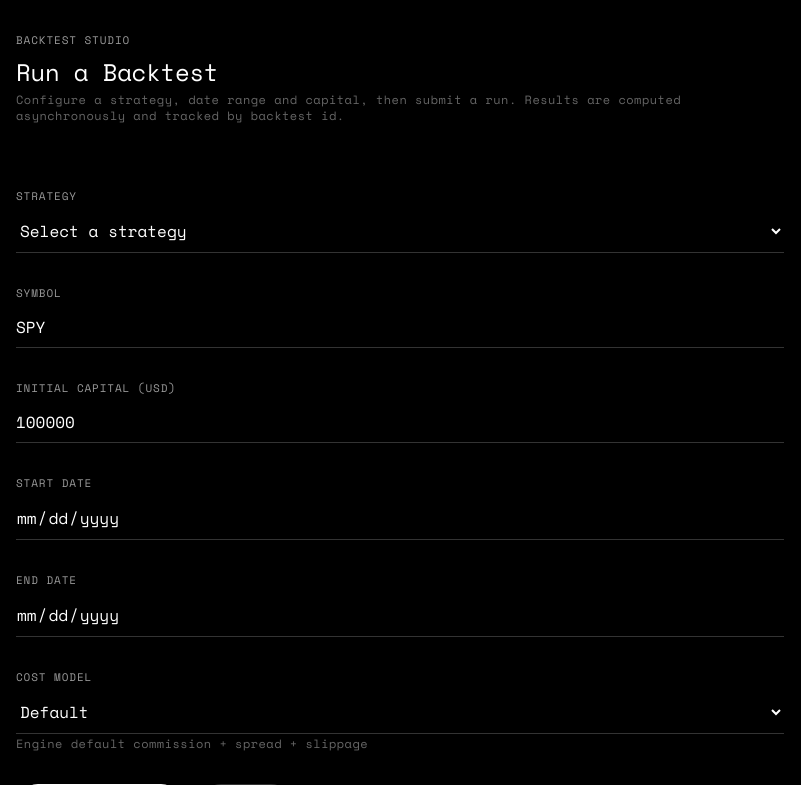
Test: BacktestPage › shows a submission error state when the mutation fails
This screenshot has width=801, height=785.
Select "Momentum Alpha" in the dropdown with test id "backtest-strategy-select" at (400, 232), box [16,210,784,253]
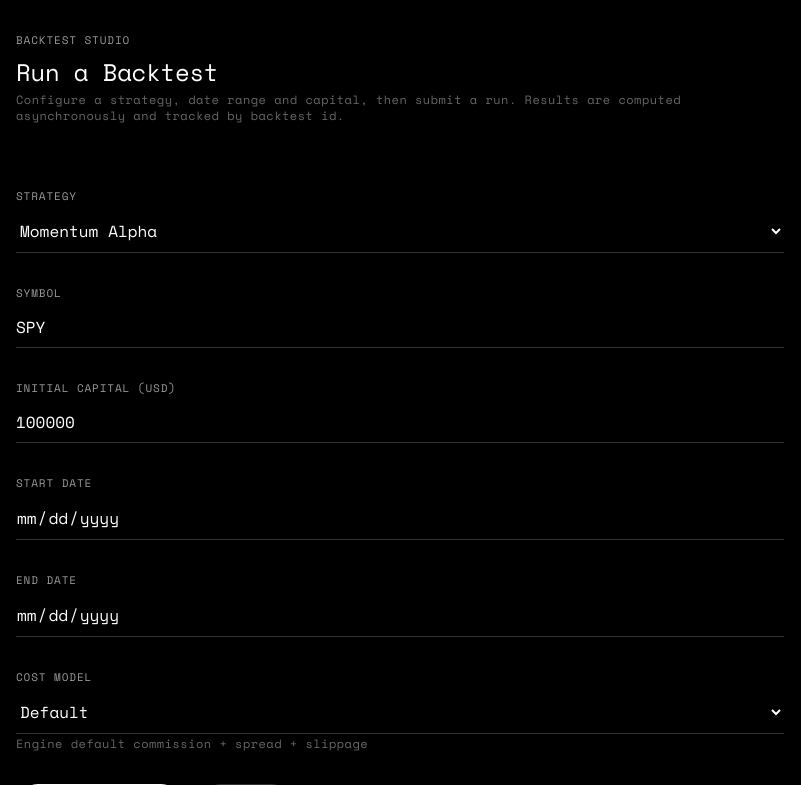
Replace the text in the field with test id "backtest-symbol-input" with "aapl" at (400, 328), box [16,307,784,348]
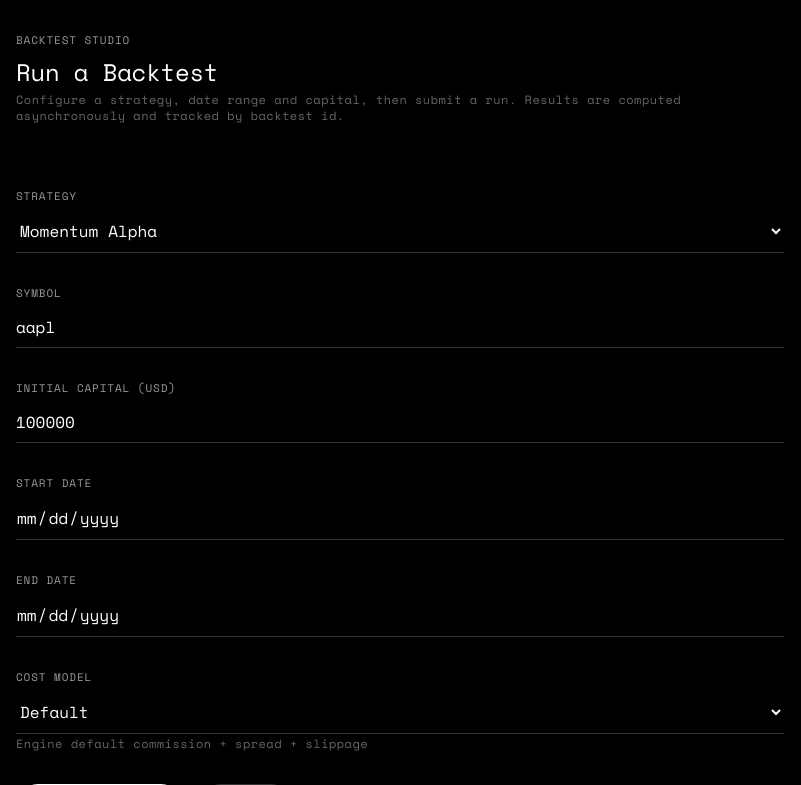
Type "50000" into the number field with test id "backtest-capital-input".
click(400, 422); type("50000")  # box [16,402,784,443]
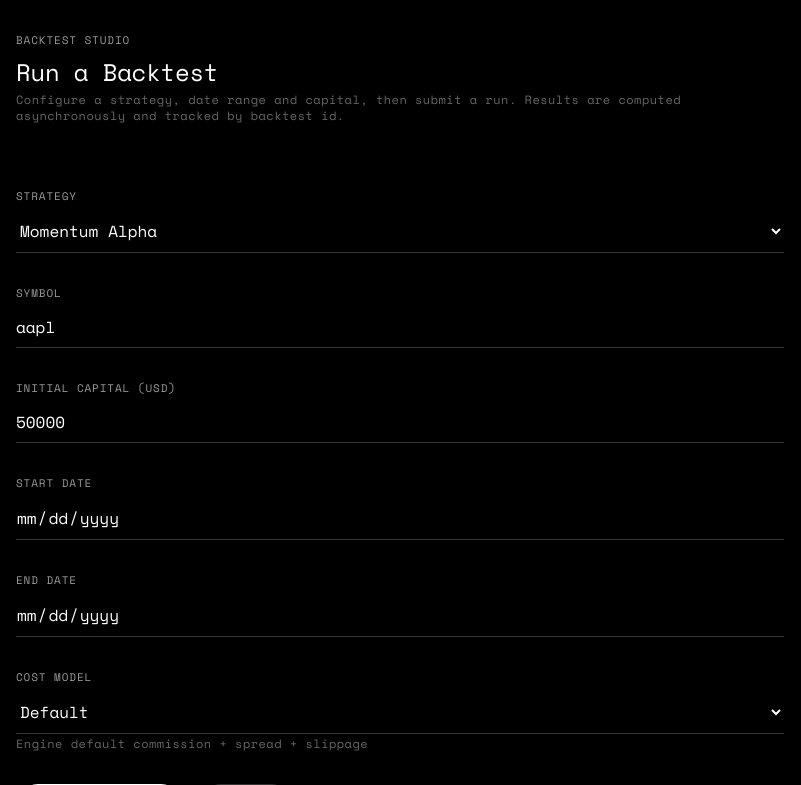
Type "2024-01-01" into the date field with test id "backtest-start-date".
click(400, 518); type("2024-01-01")  # box [16,497,784,540]
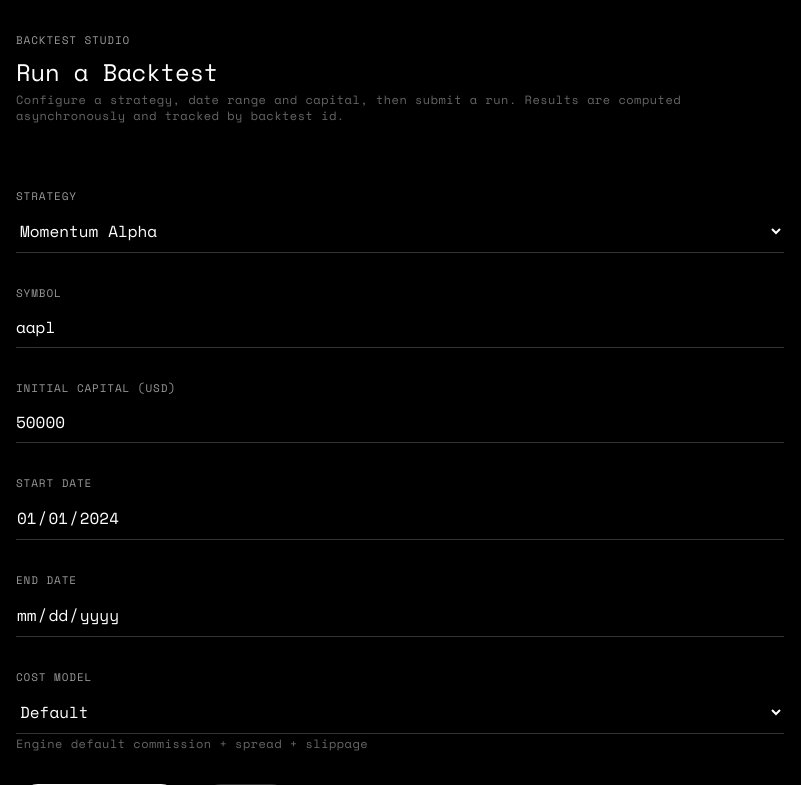
Type "2024-12-31" into the date field with test id "backtest-end-date".
click(400, 616); type("2024-12-31")  # box [16,594,784,637]
(page scrolled)
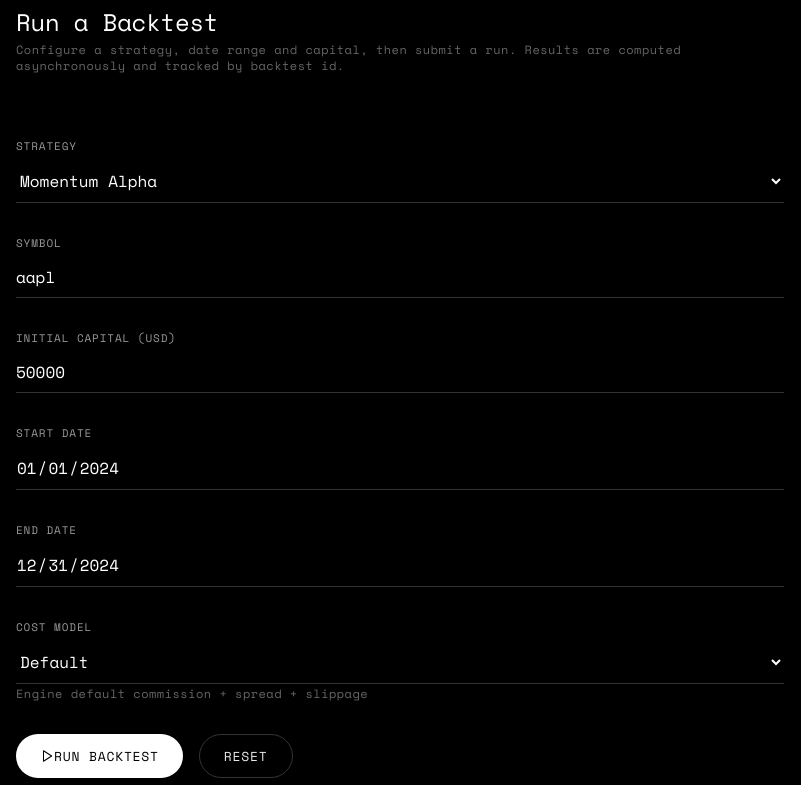
Click the button with test id "backtest-submit".
click(99, 756)  # box [16,734,183,778]
(page scrolled)
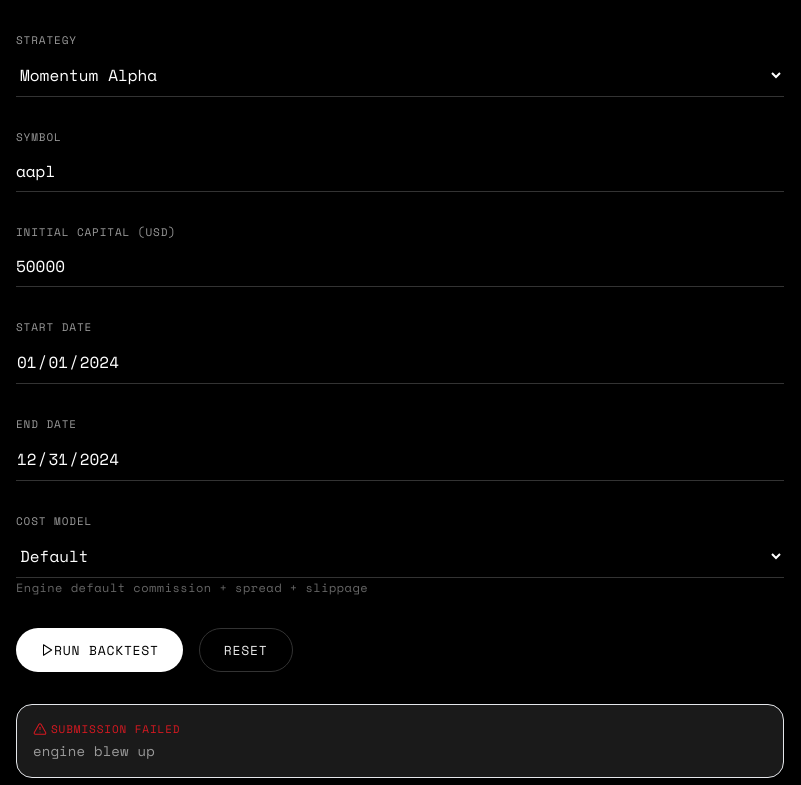
Now the message "Submission failed engine blew up" is shown, box [16,704,784,778]
Now the text "engine blew up" is shown, box [33,741,155,761]
